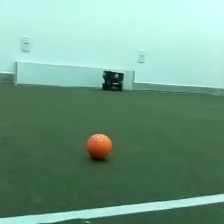ball: (84, 130, 114, 162)
goal: (13, 59, 136, 92)
robot: (100, 68, 125, 93)
